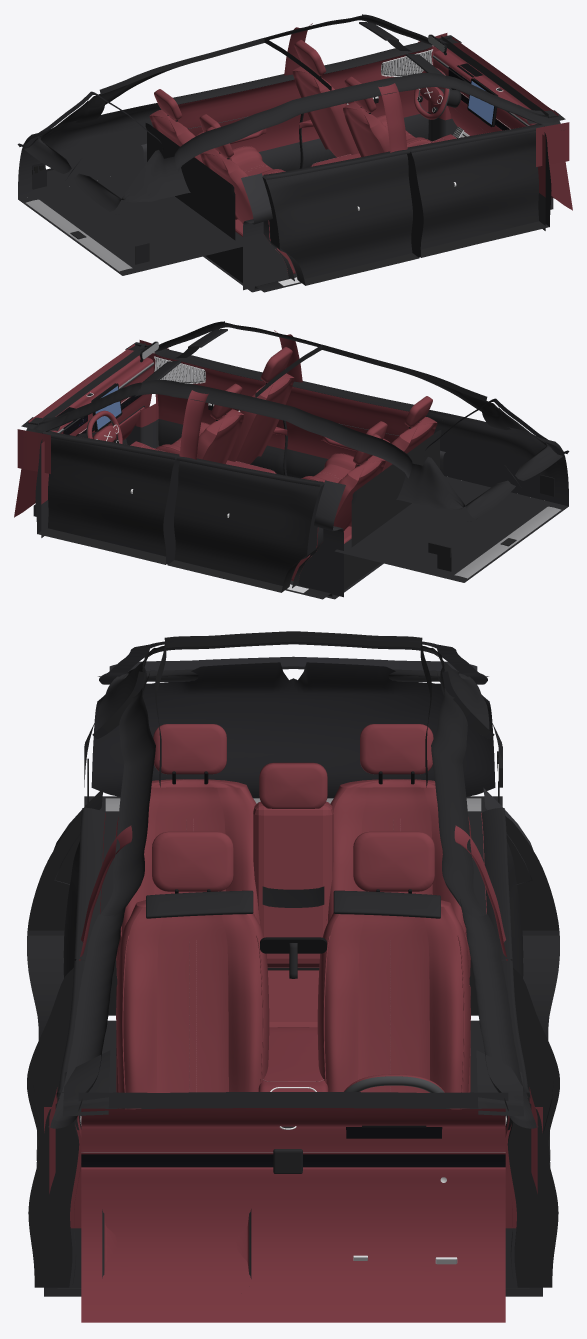
The model's file is xpeng-g9l-interior.glb.
3 renders of one model, top to bottom at view 1: azimuth 30°, elevation 25°; view 2: azimuth 150°, elevation 25°; view 3: azimuth 270°, elevation 25°, orthographic. The views are drawn at different scales.
Parts seen in each view (by area): view 1: XpengG9L_Cabin, int_rdoor_R, int_door_R, int_rdoor_L, int_door_L, int_cpillar, int_headliner, int_tailgate, screen_main; view 2: XpengG9L_Cabin, int_rdoor_L, int_door_L, int_rdoor_R, int_door_R, int_cpillar, int_headliner, int_tailgate, screen_main; view 3: XpengG9L_Cabin, int_tailgate, int_door_R, int_door_L, int_rdoor_L, int_rdoor_R, int_headliner, int_cpillar, int_cpillar_flange.
Boxes of the visible parts, left/top/right/bottom form: XpengG9L_Cabin: left=18, top=14, right=572, bottom=292; int_rdoor_R: left=262, top=149, right=422, bottom=285; int_door_R: left=407, top=123, right=551, bottom=257; int_rdoor_L: left=170, top=74, right=301, bottom=171; int_door_L: left=299, top=41, right=432, bottom=168; int_cpillar: left=24, top=99, right=190, bottom=211; int_headliner: left=84, top=37, right=331, bottom=150; int_tailgate: left=17, top=91, right=161, bottom=214; screen_main: left=468, top=81, right=493, bottom=124; XpengG9L_Cabin: left=14, top=321, right=568, bottom=599; int_rdoor_L: left=164, top=456, right=324, bottom=592; int_door_L: left=35, top=430, right=179, bottom=564; int_rdoor_R: left=285, top=381, right=416, bottom=478; int_door_R: left=154, top=348, right=287, bottom=475; int_cpillar: left=396, top=406, right=562, bottom=518; int_headliner: left=255, top=344, right=502, bottom=457; int_tailgate: left=425, top=398, right=569, bottom=521; screen_main: left=95, top=386, right=121, bottom=429; XpengG9L_Cabin: left=33, top=666, right=553, bottom=1322; int_tailgate: left=91, top=635, right=495, bottom=798; int_door_R: left=27, top=960, right=84, bottom=1287; int_door_L: left=502, top=960, right=559, bottom=1287; int_rdoor_L: left=481, top=807, right=559, bottom=1160; int_rdoor_R: left=27, top=807, right=105, bottom=1160; int_headliner: left=145, top=631, right=441, bottom=787; int_cpillar: left=97, top=647, right=489, bottom=729; int_cpillar_flange: left=92, top=671, right=494, bottom=738.
Bounding box in the file's own units: 3.97 × 1.41 × 1.99.
Materials: 26 (1 with a texture image).
